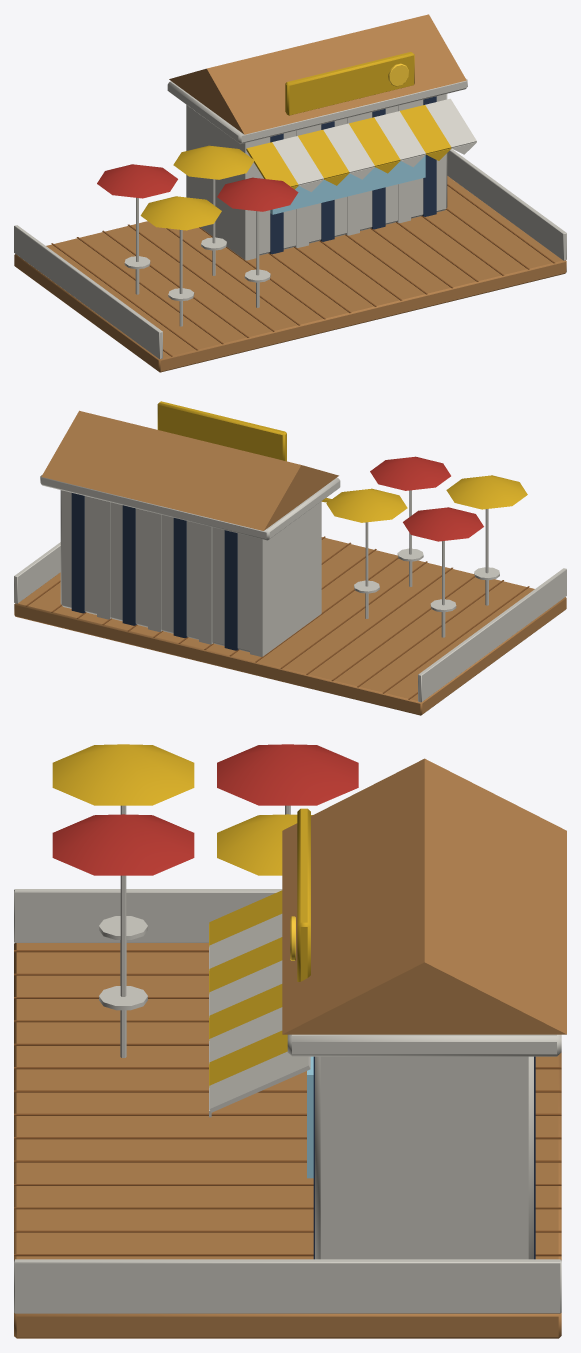
Rendered from 125_bar_du_soleil.fbx.
The picture shows the model from 3 angles, top to bottom: view 1: azimuth 30°, elevation 25°; view 2: azimuth 150°, elevation 25°; view 3: azimuth 270°, elevation 25°; orthographic projection. The views are drawn at different scales.
Visible parts, largest first — view 1: Terrasse, Pavillon, Enseigne; view 2: Pavillon, Terrasse, Enseigne; view 3: Terrasse, Pavillon, Enseigne.
Part boxes in pixels (bbox=[...]): Terrasse: bbox=[14, 145, 566, 372]; Pavillon: bbox=[167, 14, 476, 260]; Enseigne: bbox=[285, 52, 414, 115]; Pavillon: bbox=[40, 410, 340, 656]; Terrasse: bbox=[14, 456, 566, 715]; Enseigne: bbox=[157, 401, 286, 461]; Terrasse: bbox=[14, 744, 561, 1338]; Pavillon: bbox=[209, 758, 566, 1259]; Enseigne: bbox=[290, 808, 310, 981].
Bounding box in the file's own units: 4.48 × 1.96 × 2.8.
Materials: 1 (1 with a texture image).
